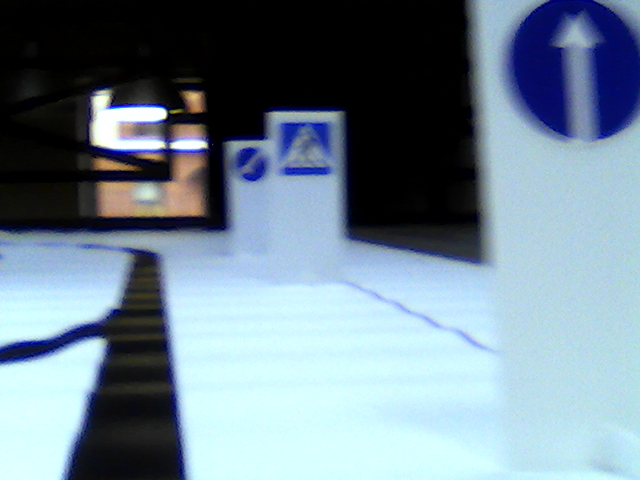forw: (510, 1, 640, 144)
pesh: (277, 121, 335, 176)
prep: (234, 147, 266, 181)
